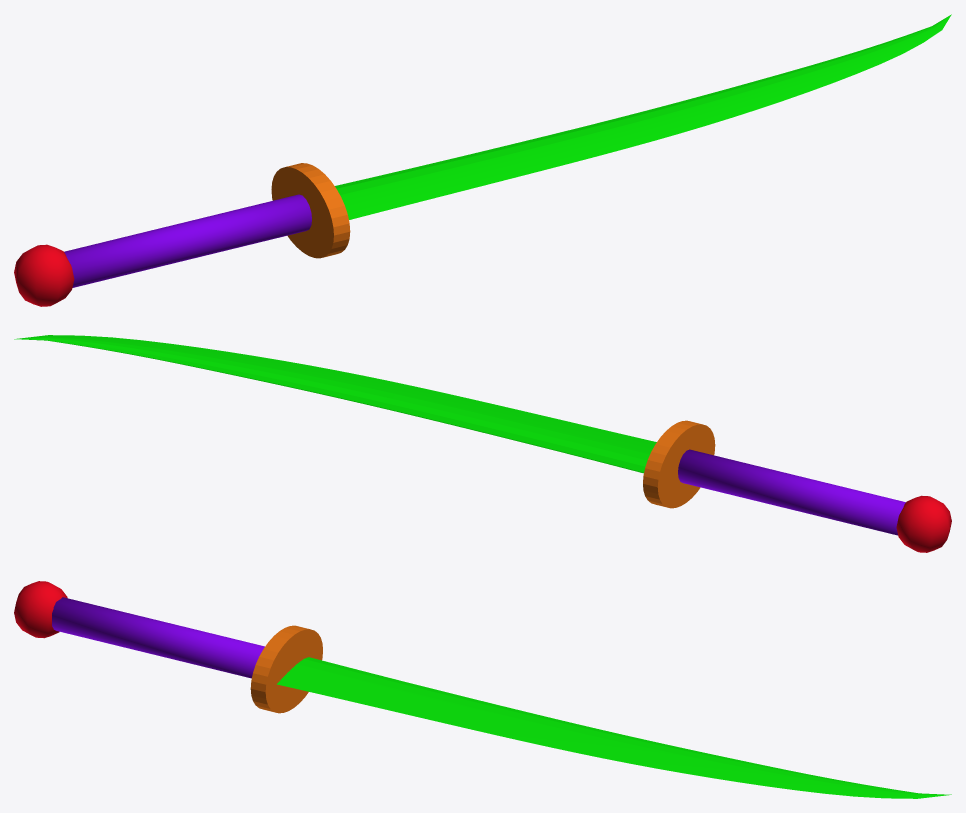
The model's file is SwordLOD0.fbx.
3 views of the same model, one above another, from view 1: azimuth 30°, elevation 25°; view 2: azimuth 150°, elevation 25°; view 3: azimuth 330°, elevation 25° (orthographic). The views are drawn at different scales.
Parts seen in each view (by area): view 1: Sword01.001; view 2: Sword01.001; view 3: Sword01.001.
Part boxes in pixels (bbox=[...]): Sword01.001: bbox=[14, 14, 951, 306]; Sword01.001: bbox=[14, 335, 951, 552]; Sword01.001: bbox=[14, 581, 951, 798].
Size of the model in its own units: 361 by 28 by 46.32.
